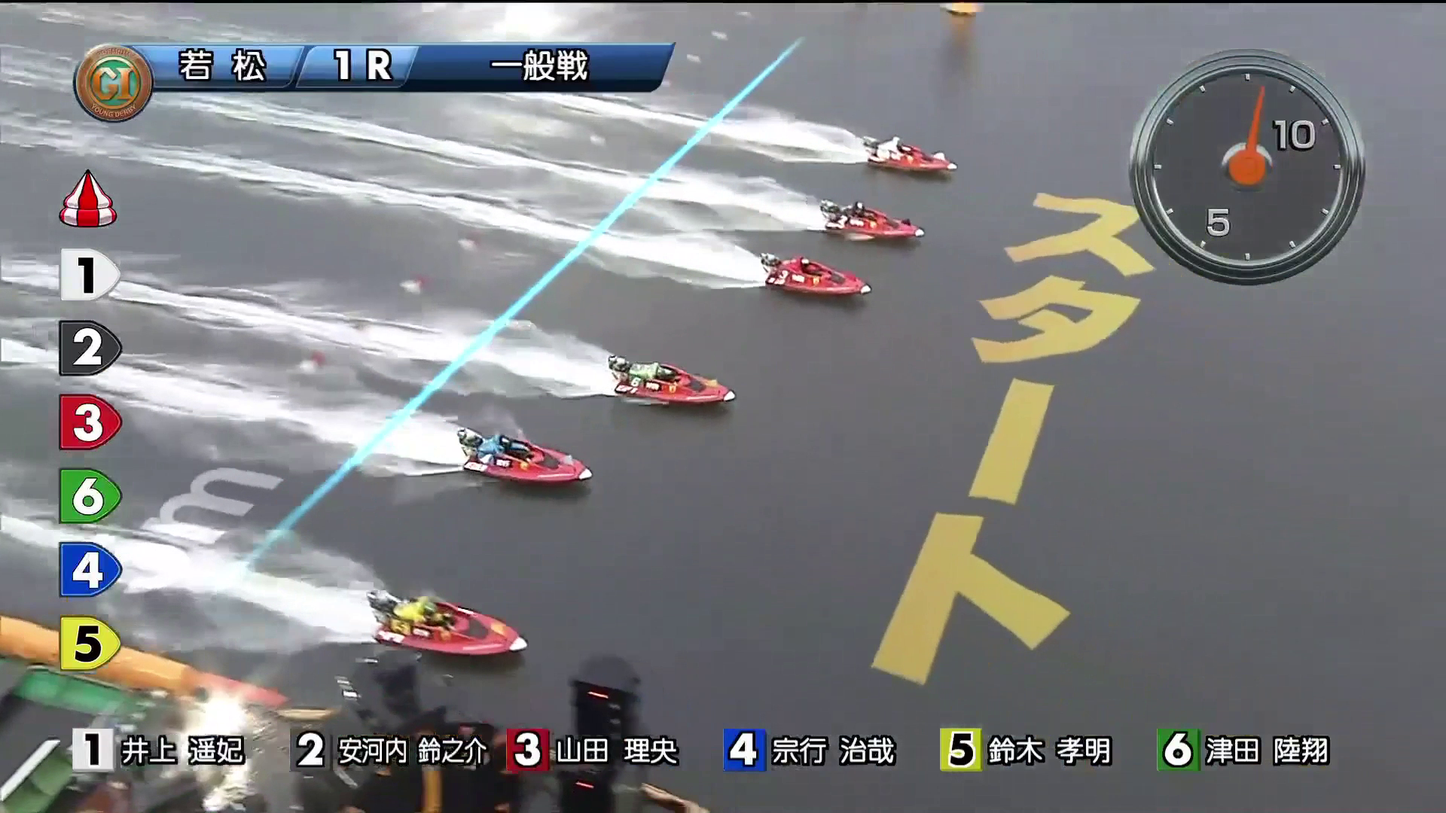１号艇: (827, 155, 906, 202)
２号艇: (847, 217, 908, 255)
３号艇: (791, 266, 846, 307)
４号艇: (641, 366, 706, 409)
５号艇: (504, 456, 573, 494)
６号艇: (442, 622, 508, 669)
